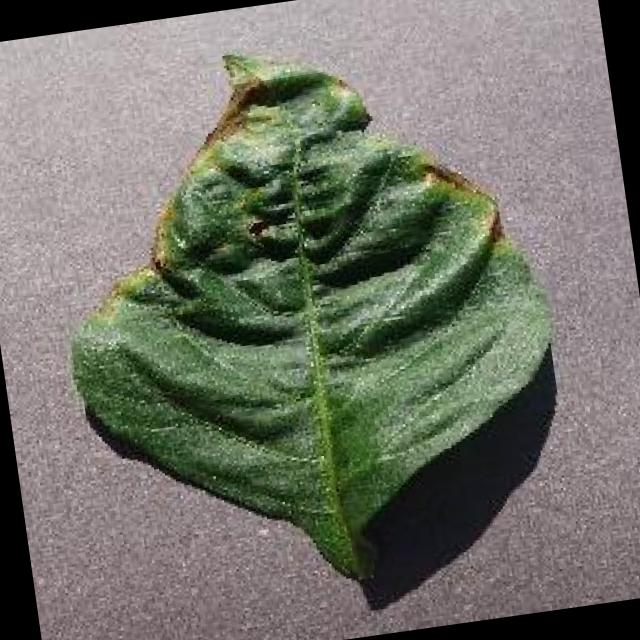Chilli_Bacterial_Spot: (25, 8, 588, 621), (242, 213, 273, 244)
